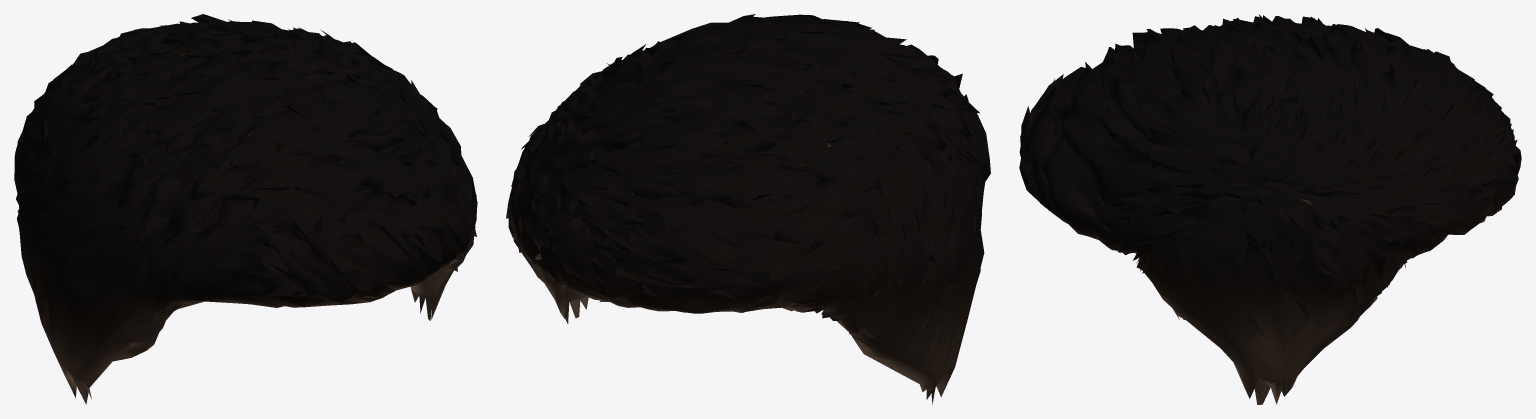
File: Meshy_AI__buzzcut_texture.glb
3 views of the same model, side by side, from view 1: azimuth 30°, elevation 25°; view 2: azimuth 150°, elevation 25°; view 3: azimuth 270°, elevation 25° (orthographic). The views are drawn at different scales.
Visible parts, largest first — view 1: mesh_node; view 2: mesh_node; view 3: mesh_node.
Boxes of the visible parts, left/top/right/bottom form: mesh_node: left=14, top=14, right=477, bottom=404; mesh_node: left=506, top=14, right=990, bottom=404; mesh_node: left=1019, top=14, right=1521, bottom=404.
Bounding box in the file's own units: 1.7 × 1.25 × 2.
1 material, 1 textured.
